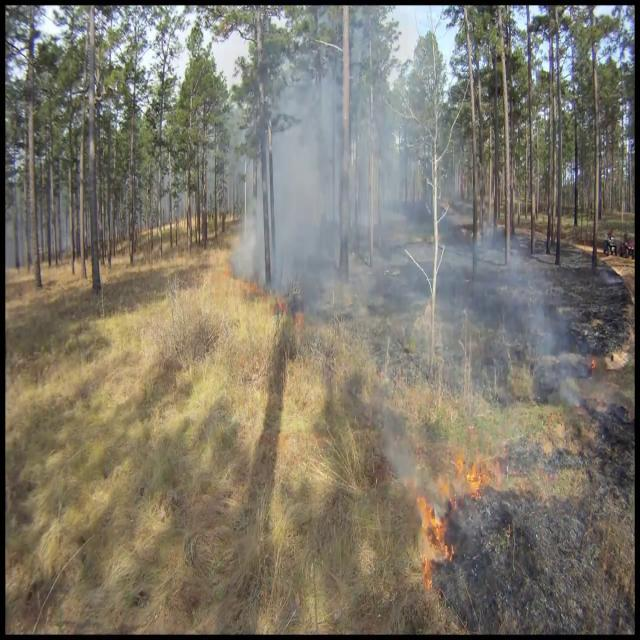Fire: (407, 488, 458, 590)
Smoke: (240, 14, 460, 340)
